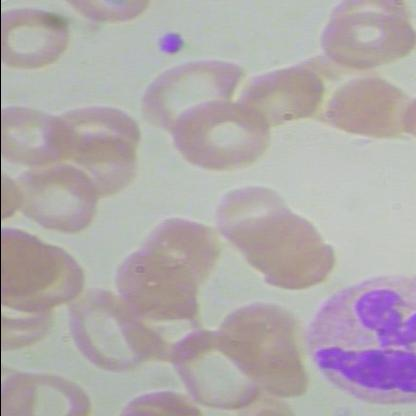Platelets: (151, 26, 189, 58)
RBC: (52, 288, 160, 377), (135, 57, 247, 132), (166, 96, 274, 172), (166, 326, 260, 412), (311, 70, 415, 146), (7, 158, 101, 238), (228, 61, 324, 129), (315, 9, 415, 69), (1, 1, 69, 80), (1, 97, 71, 173), (56, 1, 159, 30)
WBC: (291, 257, 415, 415)
